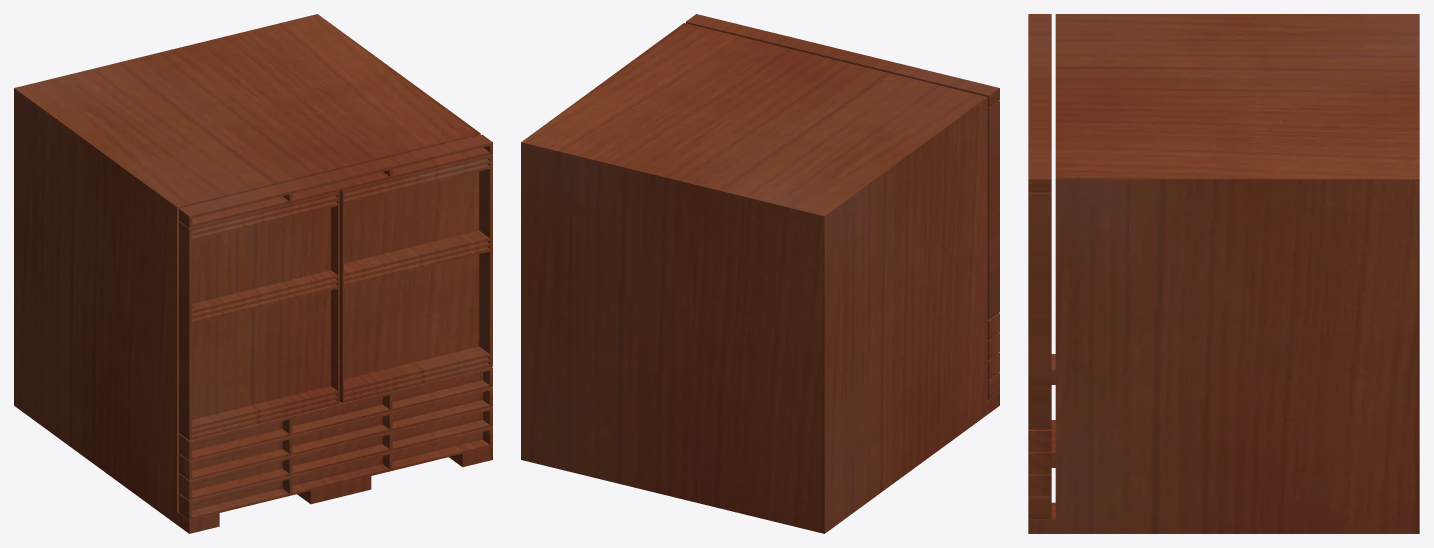
Rendered from sh-lp-mobile-ciliegio.glb.
3 views of the same model, side by side, from view 1: azimuth 30°, elevation 25°; view 2: azimuth 150°, elevation 25°; view 3: azimuth 270°, elevation 25° (orthographic). The views are drawn at different scales.
Visible parts, largest first — view 1: Box12_1; view 2: Box12_1; view 3: Box12_1.
Part boxes in pixels (x1,y1,x2,y2): Box12_1: (14, 14, 492, 533); Box12_1: (521, 14, 999, 533); Box12_1: (1028, 14, 1419, 533).
Size of the model in its own units: 1 by 1 by 1.
1 material, 1 textured.
